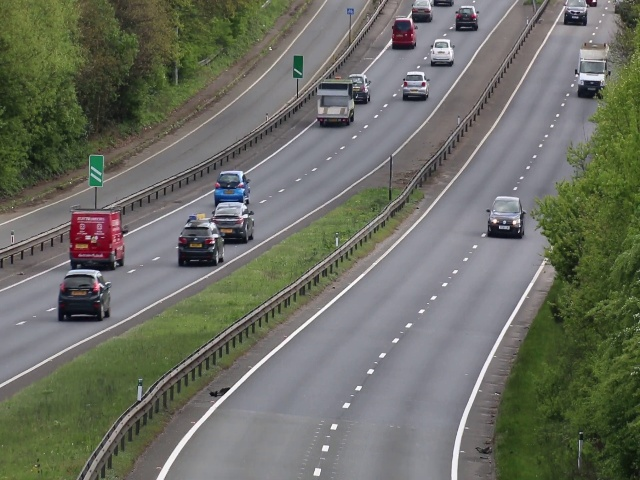car: (68, 208, 128, 268), (58, 269, 111, 322), (177, 217, 225, 264), (577, 41, 611, 99), (316, 80, 355, 129), (209, 204, 256, 242), (486, 195, 525, 239), (214, 170, 250, 204), (402, 69, 430, 102), (429, 36, 457, 67), (391, 17, 417, 50), (454, 5, 478, 33), (350, 72, 372, 102), (563, 1, 589, 26), (412, 1, 433, 22)
